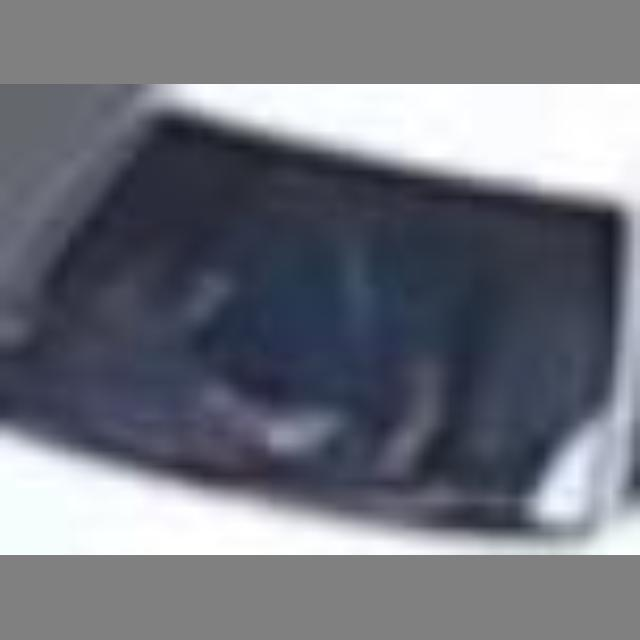tidak-pakai: (160, 160, 429, 421)
